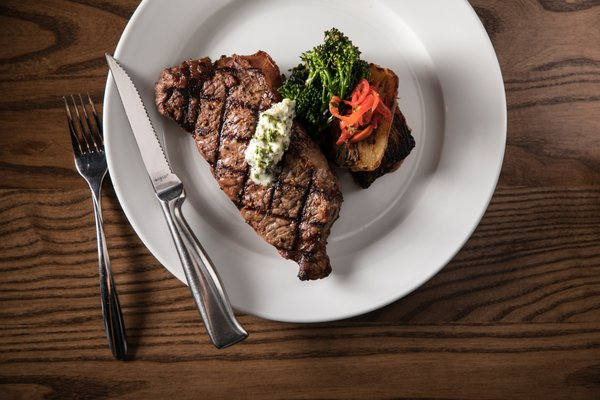curry: (277, 27, 374, 134)
sandwich: (103, 54, 252, 349)
